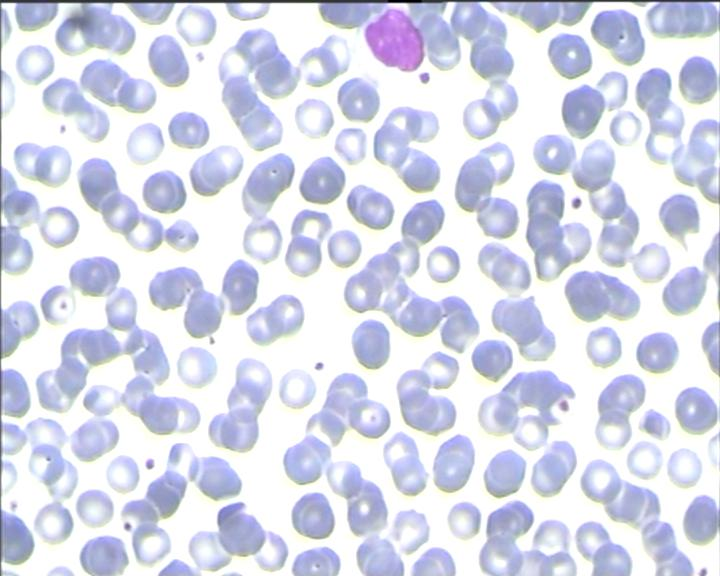lymp: (349, 5, 431, 85)
